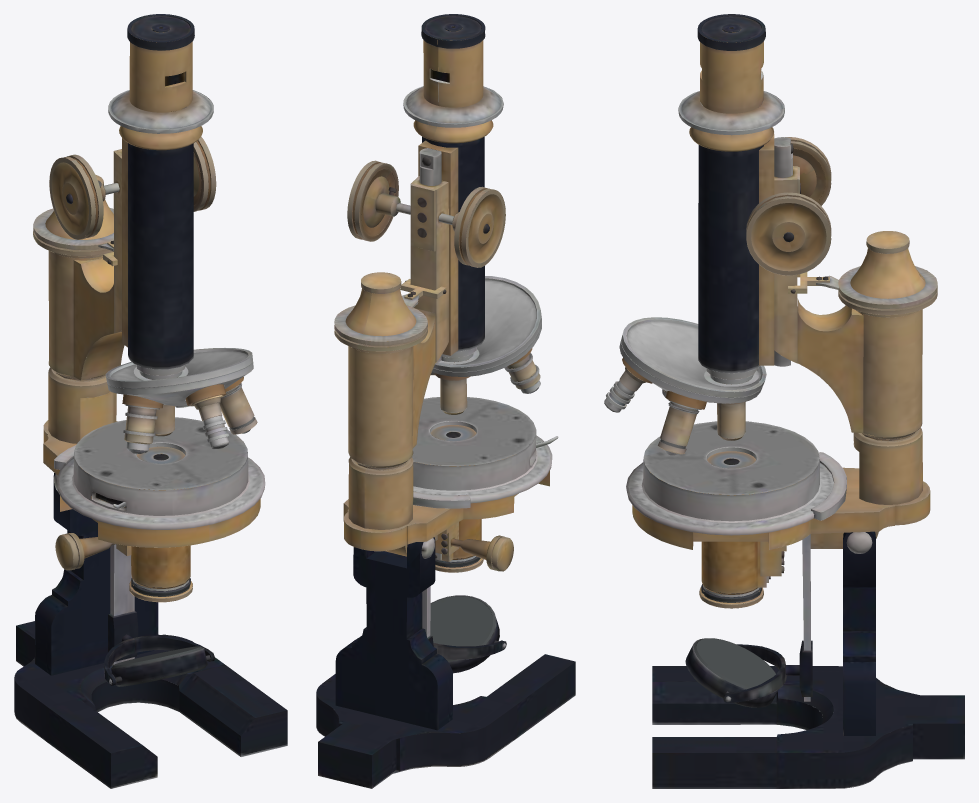
Rendered from ph_vintage_microscope.glb.
3 renders of one model, left to right at view 1: azimuth 30°, elevation 25°; view 2: azimuth 150°, elevation 25°; view 3: azimuth 270°, elevation 25°, orthographic. The views are drawn at different scales.
Visible parts, largest first — view 1: vintage_microscope_mirror_arm; view 2: vintage_microscope_mirror_arm; view 3: vintage_microscope_mirror_arm.
Boxes of the visible parts, x1=… form: vintage_microscope_mirror_arm: x1=14, y1=14, x2=287, y2=788; vintage_microscope_mirror_arm: x1=316, y1=14, x2=575, y2=788; vintage_microscope_mirror_arm: x1=604, y1=14, x2=964, y2=788.
Bounding box in the file's own units: 0.1065 × 0.3996 × 0.1819.
2 materials, 2 textured.
